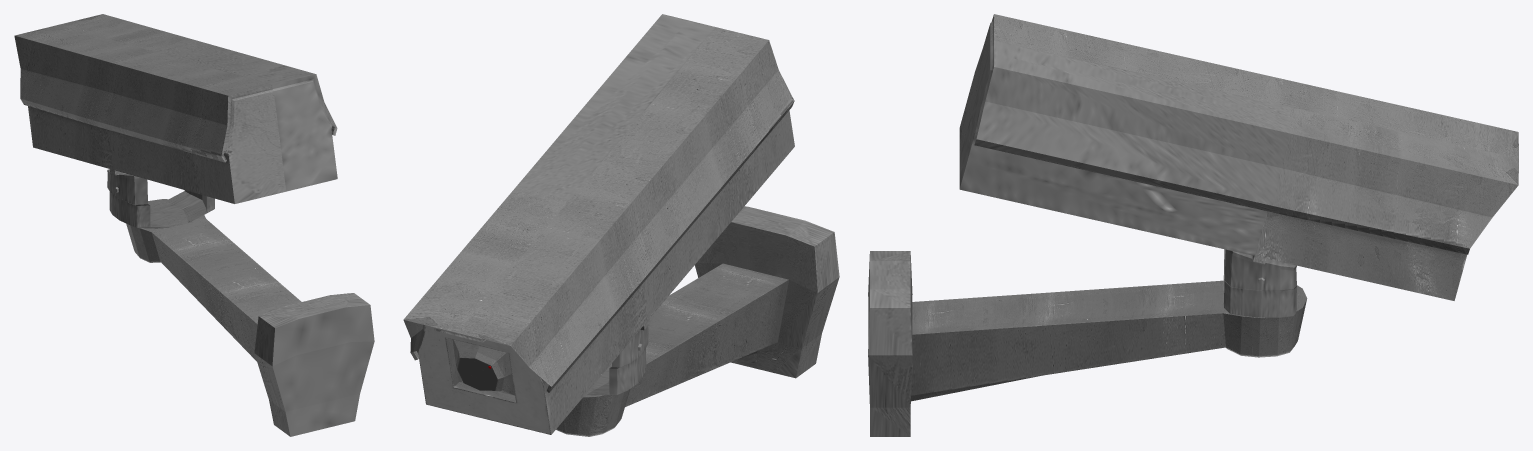
Rendered from camera_w_reddot.fbx.
The picture shows the model from 3 angles, left to right: view 1: azimuth 30°, elevation 25°; view 2: azimuth 150°, elevation 25°; view 3: azimuth 270°, elevation 25°; orthographic projection. The views are drawn at different scales.
Visible parts, largest first — view 1: cam; view 2: cam; view 3: cam.
Boxes of the visible parts, left/top/right/bottom form: cam: left=14, top=14, right=374, bottom=436; cam: left=403, top=14, right=839, bottom=436; cam: left=868, top=14, right=1518, bottom=436.
Bounding box in the file's own units: 127 × 319 × 499.
2 materials, 1 textured.
